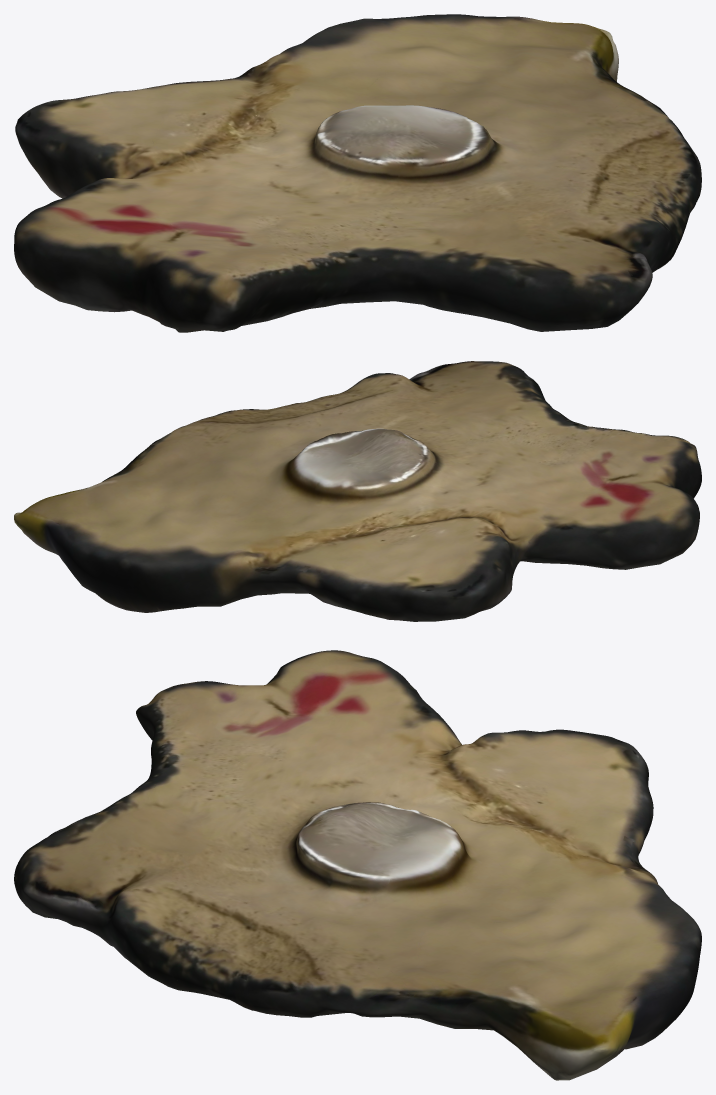
3 renders of one model, top to bottom at view 1: azimuth 30°, elevation 25°; view 2: azimuth 150°, elevation 25°; view 3: azimuth 270°, elevation 25°, orthographic. The views are drawn at different scales.
Bounding box in the file's own units: 0.63 × 0.1124 × 0.547.
Materials: 1 (1 with a texture image).
